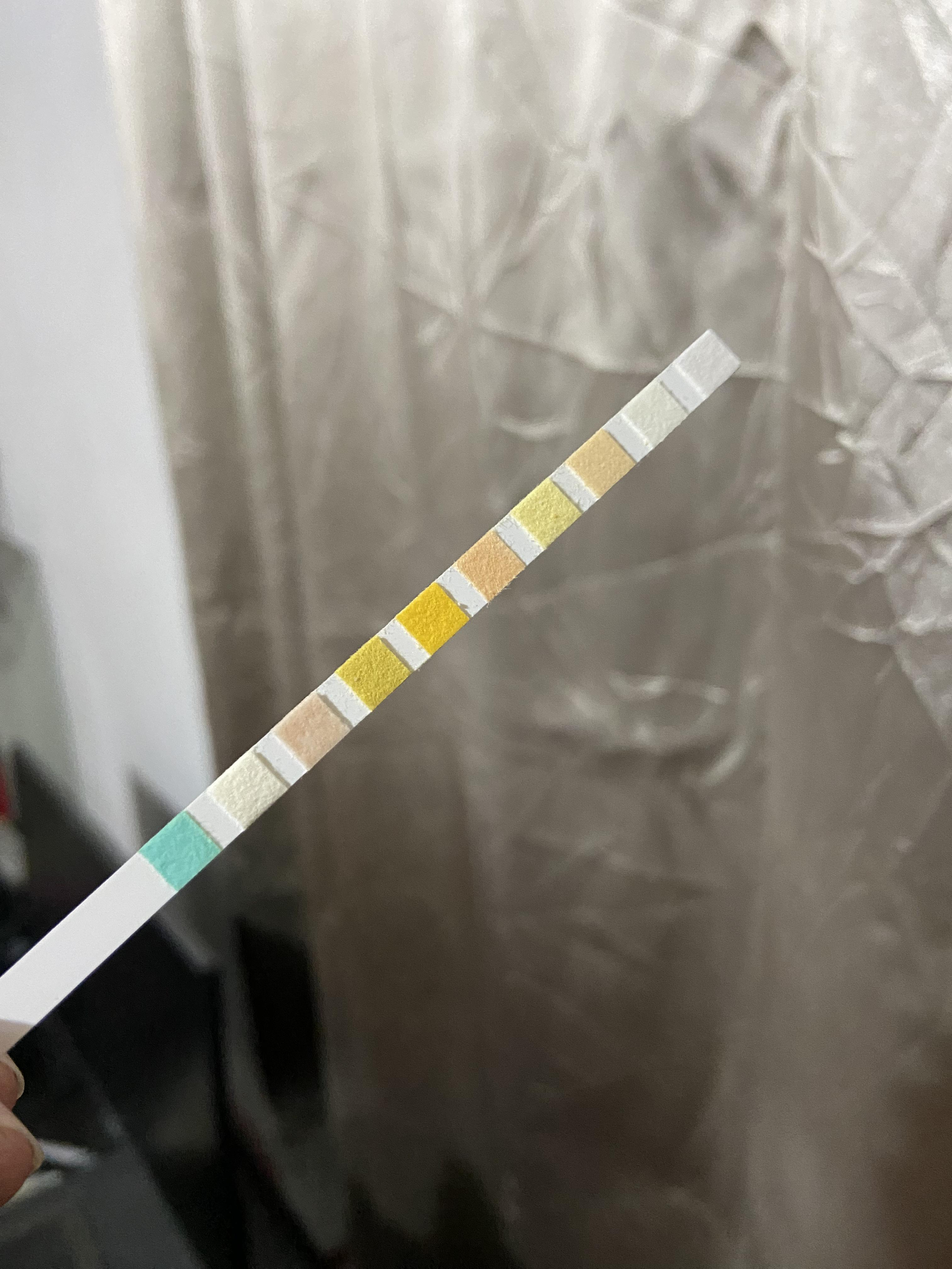Bilirubin: (224, 772, 271, 807)
Blood: (408, 605, 457, 634)
Glucose: (156, 834, 205, 868)
Ketone: (290, 713, 334, 747)
Leukocytes: (686, 349, 729, 376)
Nitrite: (633, 398, 675, 426)
Protein: (521, 500, 571, 526)
SpGravity: (350, 657, 397, 687)
Urobilinogen: (577, 449, 623, 475)
pH: (469, 549, 512, 581)
strip: (3, 329, 743, 1026)
